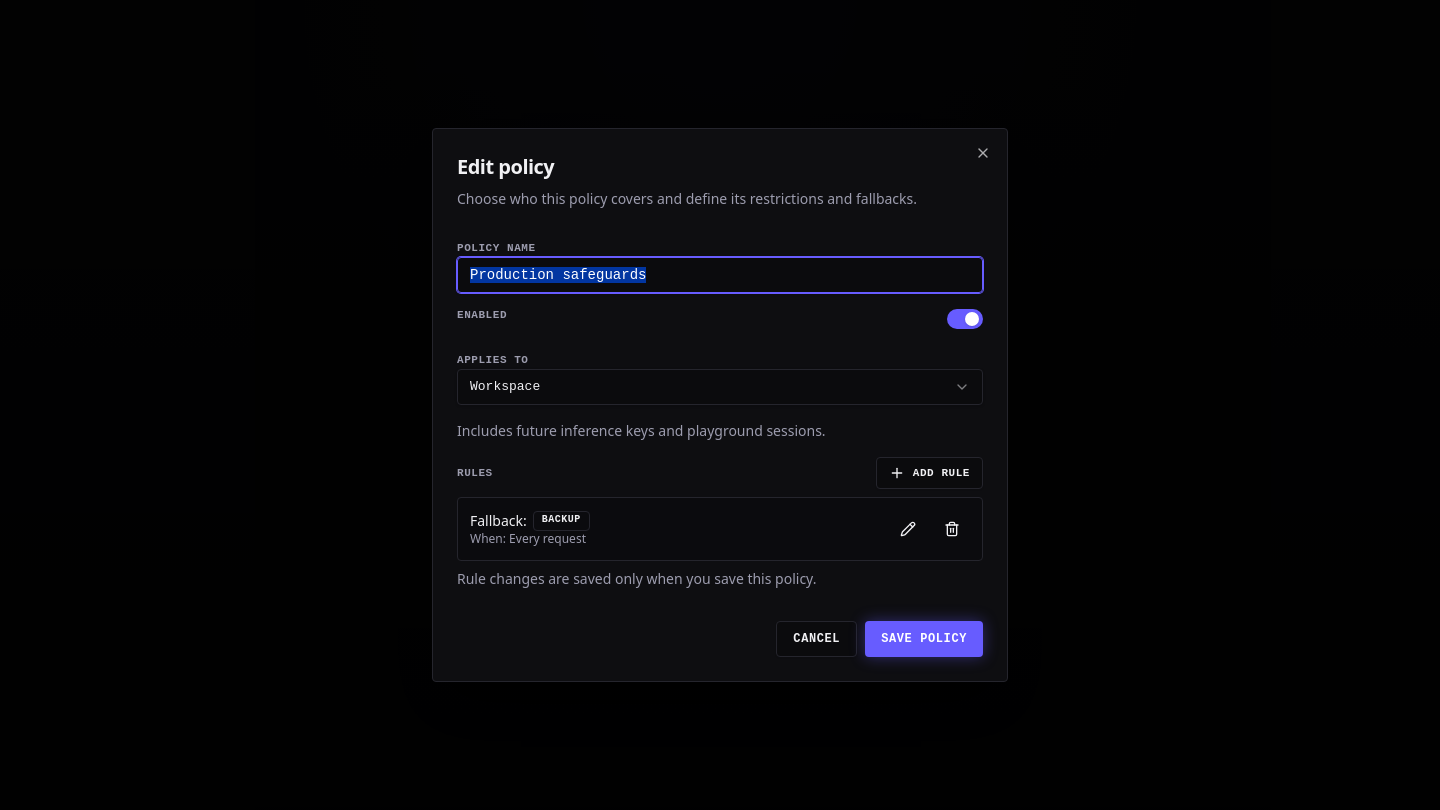
Test case: prevents adding a second fallback rule
This screenshot has width=1440, height=810.
Step 1. Click the button "Add rule" → (929, 473), box [876, 457, 983, 489]
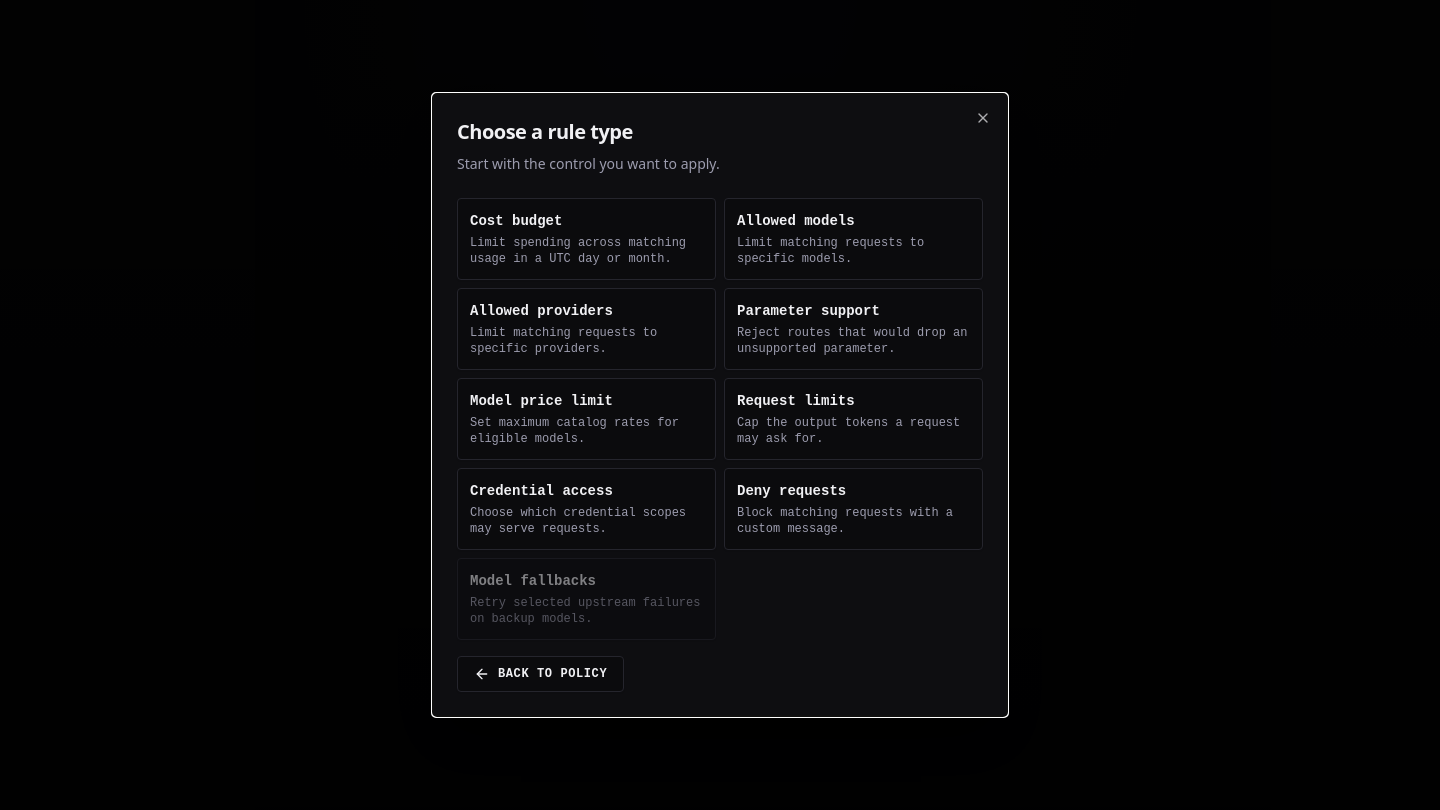
Expected: the button "Model fallbacks" is disabled, [457, 558, 716, 640]
